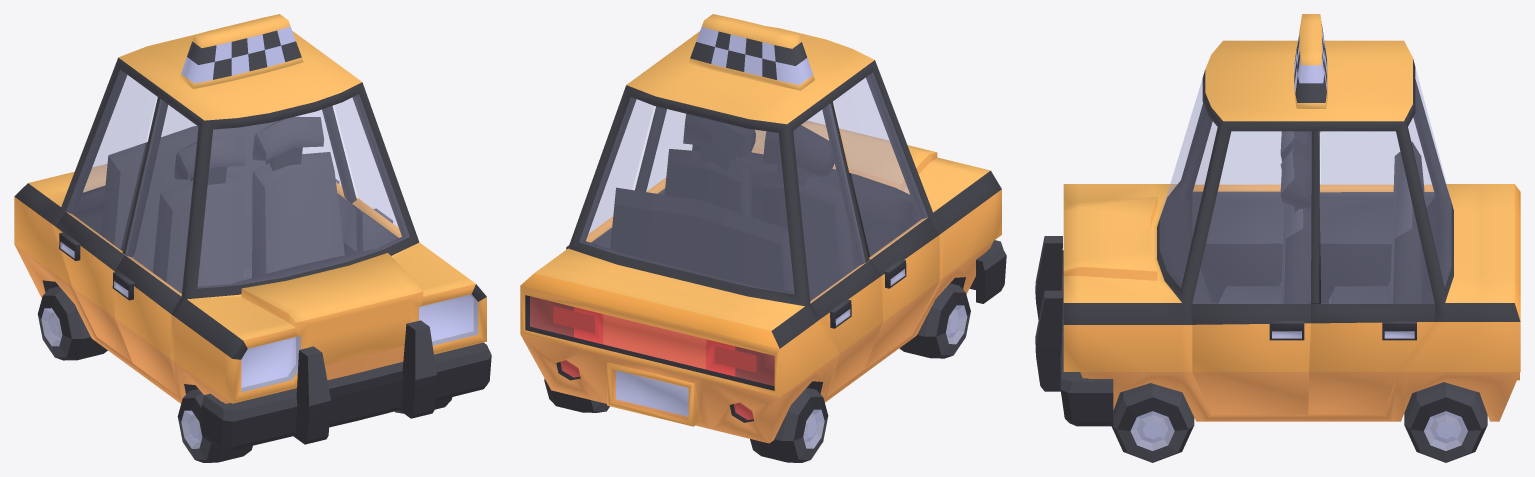
File: car.glb
3 views of the same model, side by side, from view 1: azimuth 30°, elevation 25°; view 2: azimuth 150°, elevation 25°; view 3: azimuth 270°, elevation 25° (orthographic). The views are drawn at different scales.
Visible parts, largest first — view 1: Car01_2_Taxi, Car01_2_AdF.002, Car01_2_DR1.002, Car01_2_DR2.002, Car01_2_Taxi_AdT, Car01_2_DL1.002, Car01_2_WhBR.002, Car01_2_WhFR.002, Car01_2_DL2.002; view 2: Car01_2_Taxi, Car01_2_DR1.002, Car01_2_DR2.002, Car01_2_Taxi_AdT, Car01_2_WhBR.002, Car01_2_DL2.002, Car01_2_WhFR.002, Car01_2_DL1.002, Car01_2_AdF.002, Car01_2_WhBL.002; view 3: Car01_2_Taxi, Car01_2_DL1.002, Car01_2_DL2.002, Car01_2_DR2.002, Car01_2_DR1.002, Car01_2_AdF.002, Car01_2_WhBL.002, Car01_2_WhFL.002, Car01_2_Taxi_AdT.
Part boxes in pixels (x1,y1,x2,y2): Car01_2_Taxi: (14, 31, 486, 403); Car01_2_AdF.002: (201, 320, 491, 450); Car01_2_DR1.002: (112, 99, 198, 396); Car01_2_DR2.002: (55, 70, 156, 362); Car01_2_Taxi_AdT: (179, 14, 303, 88); Car01_2_DL1.002: (334, 98, 401, 251); Car01_2_WhBR.002: (37, 286, 107, 360); Car01_2_WhFR.002: (177, 389, 252, 462); Car01_2_DL2.002: (299, 110, 357, 255); Car01_2_Taxi: (520, 26, 1001, 443); Car01_2_DR1.002: (834, 73, 939, 367); Car01_2_DR2.002: (793, 104, 882, 394); Car01_2_Taxi_AdT: (688, 14, 814, 90); Car01_2_WhBR.002: (750, 387, 828, 462); Car01_2_DL2.002: (566, 100, 653, 249); Car01_2_WhFR.002: (899, 283, 970, 358); Car01_2_DL1.002: (646, 109, 691, 194); Car01_2_AdF.002: (970, 240, 1006, 303); Car01_2_WhBL.002: (544, 378, 609, 412); Car01_2_Taxi: (1063, 40, 1520, 421); Car01_2_DL1.002: (1192, 131, 1311, 414); Car01_2_DL2.002: (1308, 131, 1434, 414); Car01_2_DR2.002: (1319, 119, 1434, 302); Car01_2_DR1.002: (1192, 122, 1284, 302); Car01_2_AdF.002: (1035, 236, 1113, 426); Car01_2_WhBL.002: (1404, 382, 1487, 462); Car01_2_WhFL.002: (1111, 383, 1194, 462); Car01_2_Taxi_AdT: (1293, 14, 1327, 108).
Size of the model in its own units: 2.56 by 3.21 by 3.83.
5 materials, 5 textured.
